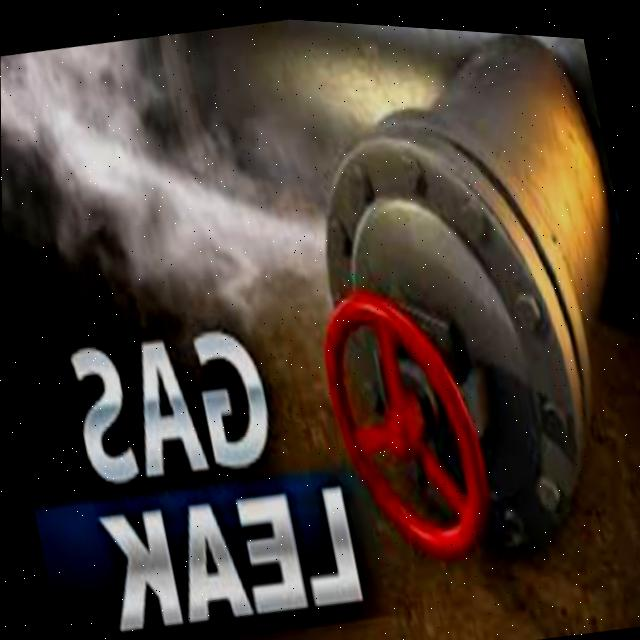corrosion: (61, 27, 510, 581)
